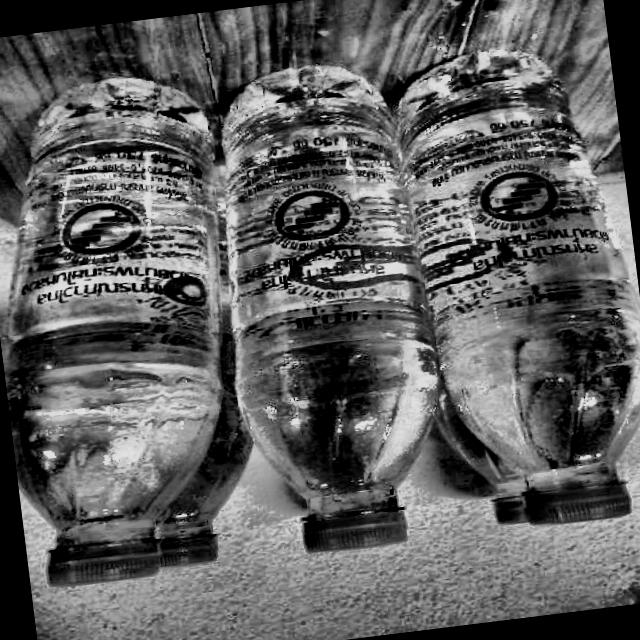waterbottle: (0, 55, 270, 604), (187, 45, 467, 572), (375, 27, 640, 550), (376, 36, 602, 544), (35, 123, 278, 585)
